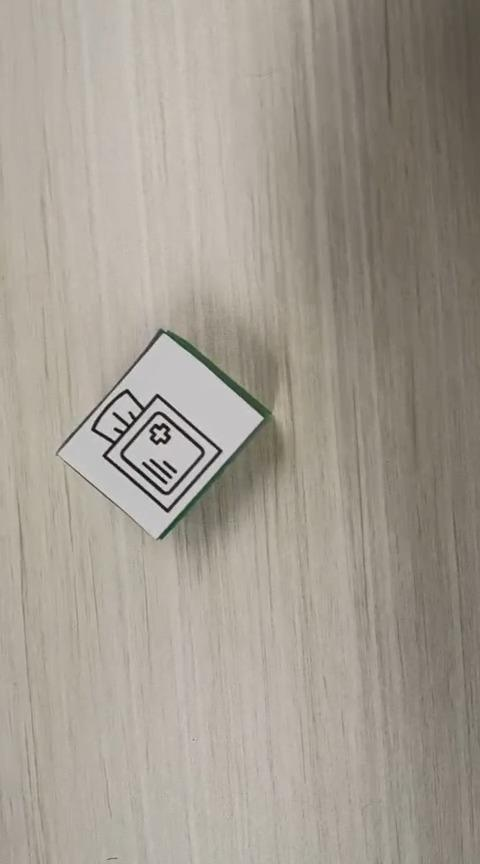Gauze: (55, 327, 272, 540)
